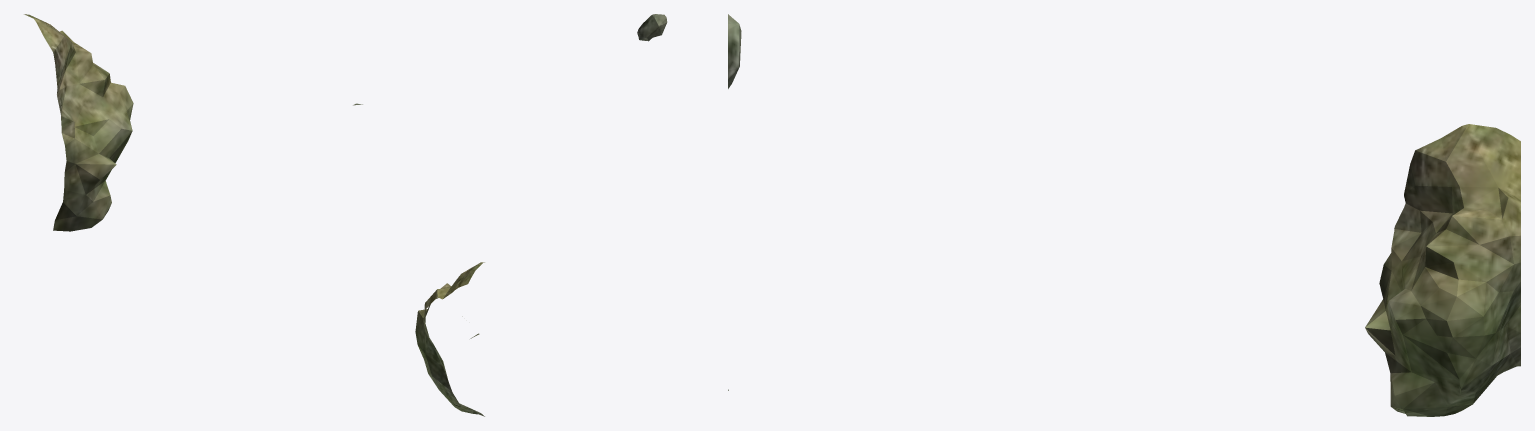
3 views of the same model, side by side, from view 1: azimuth 30°, elevation 25°; view 2: azimuth 150°, elevation 25°; view 3: azimuth 270°, elevation 25° (orthographic). The views are drawn at different scales.
Bounding box in the file's own units: 2.13 × 6.67 × 11.8.
Materials: 1 (1 with a texture image).
